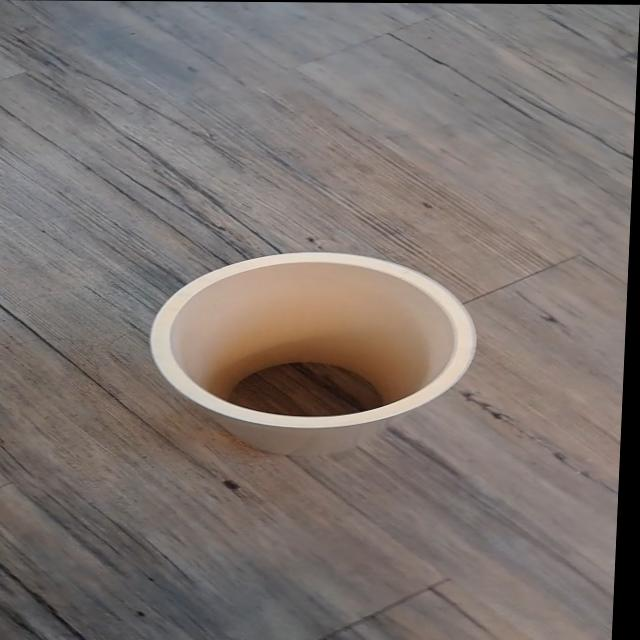CORAL: (110, 238, 500, 482)
